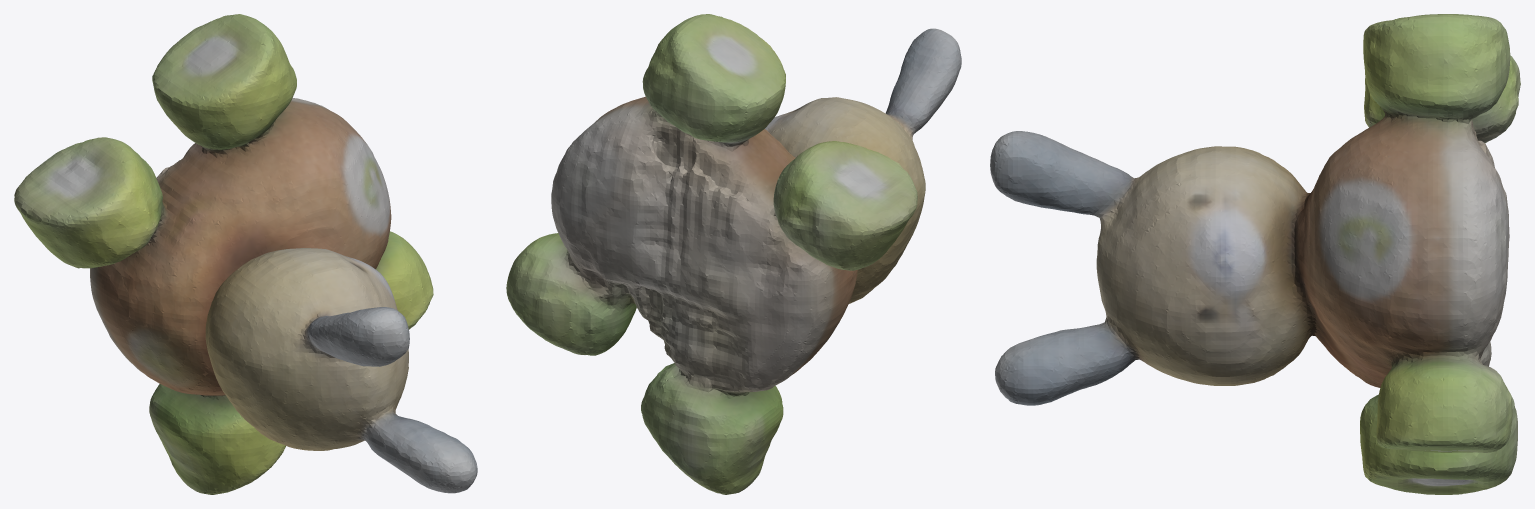
Rendered from gso_rabbit.glb.
3 renders of one model, left to right at view 1: azimuth 30°, elevation 25°; view 2: azimuth 150°, elevation 25°; view 3: azimuth 270°, elevation 25°, orthographic. The views are drawn at different scales.
Visible parts, largest first — view 1: mesh.obj; view 2: mesh.obj; view 3: mesh.obj.
Boxes of the visible parts, x1,y1,x2,y2 form: mesh.obj: (14,14,477,494); mesh.obj: (506,14,961,494); mesh.obj: (990,14,1520,494).
Bounding box in the file's own units: 0.8334 × 0.9102 × 0.8615.
